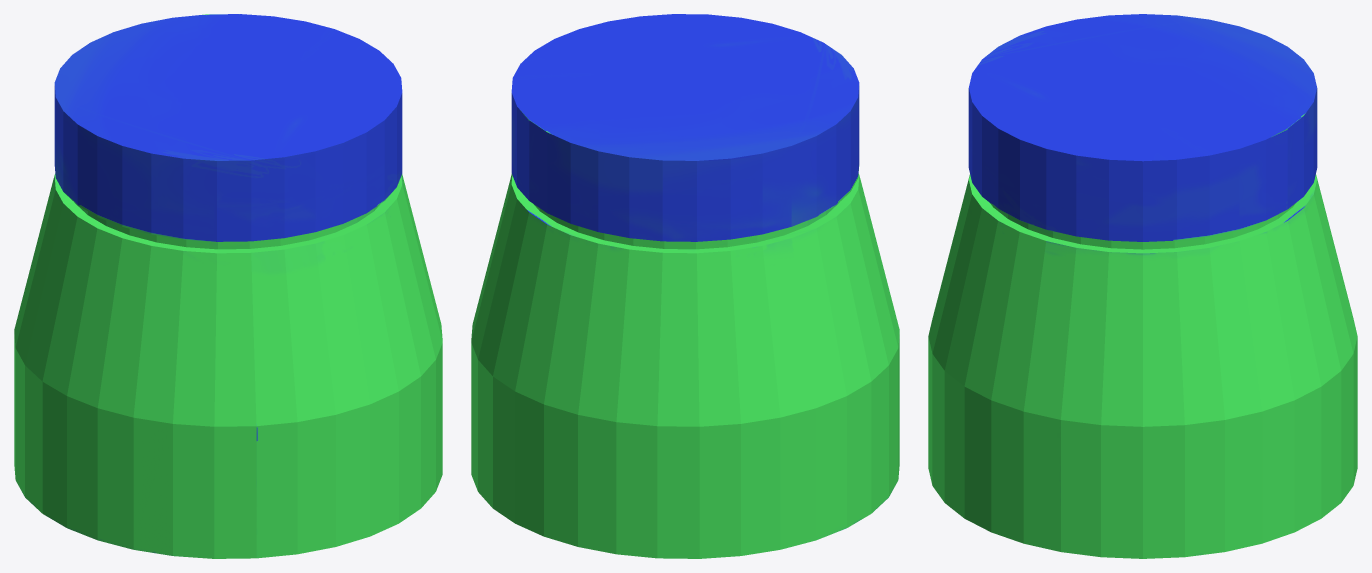
The model's file is Vicks.glb.
3 views of the same model, side by side, from view 1: azimuth 30°, elevation 25°; view 2: azimuth 150°, elevation 25°; view 3: azimuth 270°, elevation 25° (orthographic).
Visible parts, largest first — view 1: Circle; view 2: Circle; view 3: Circle.
Part boxes in pixels (<box>): Circle: <box>14,14,442,558</box>; Circle: <box>471,14,899,558</box>; Circle: <box>928,14,1357,558</box>.
Bounding box in the file's own units: 0.5382 × 0.5381 × 0.5382.
Materials: 1 (1 with a texture image).
